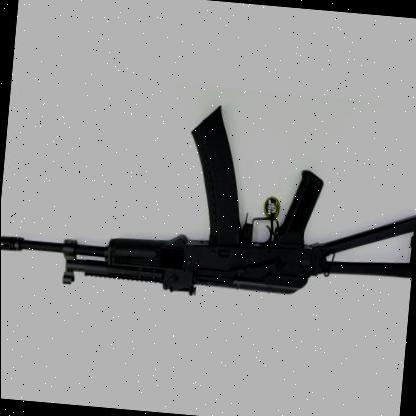rifle: (0, 85, 416, 363)
